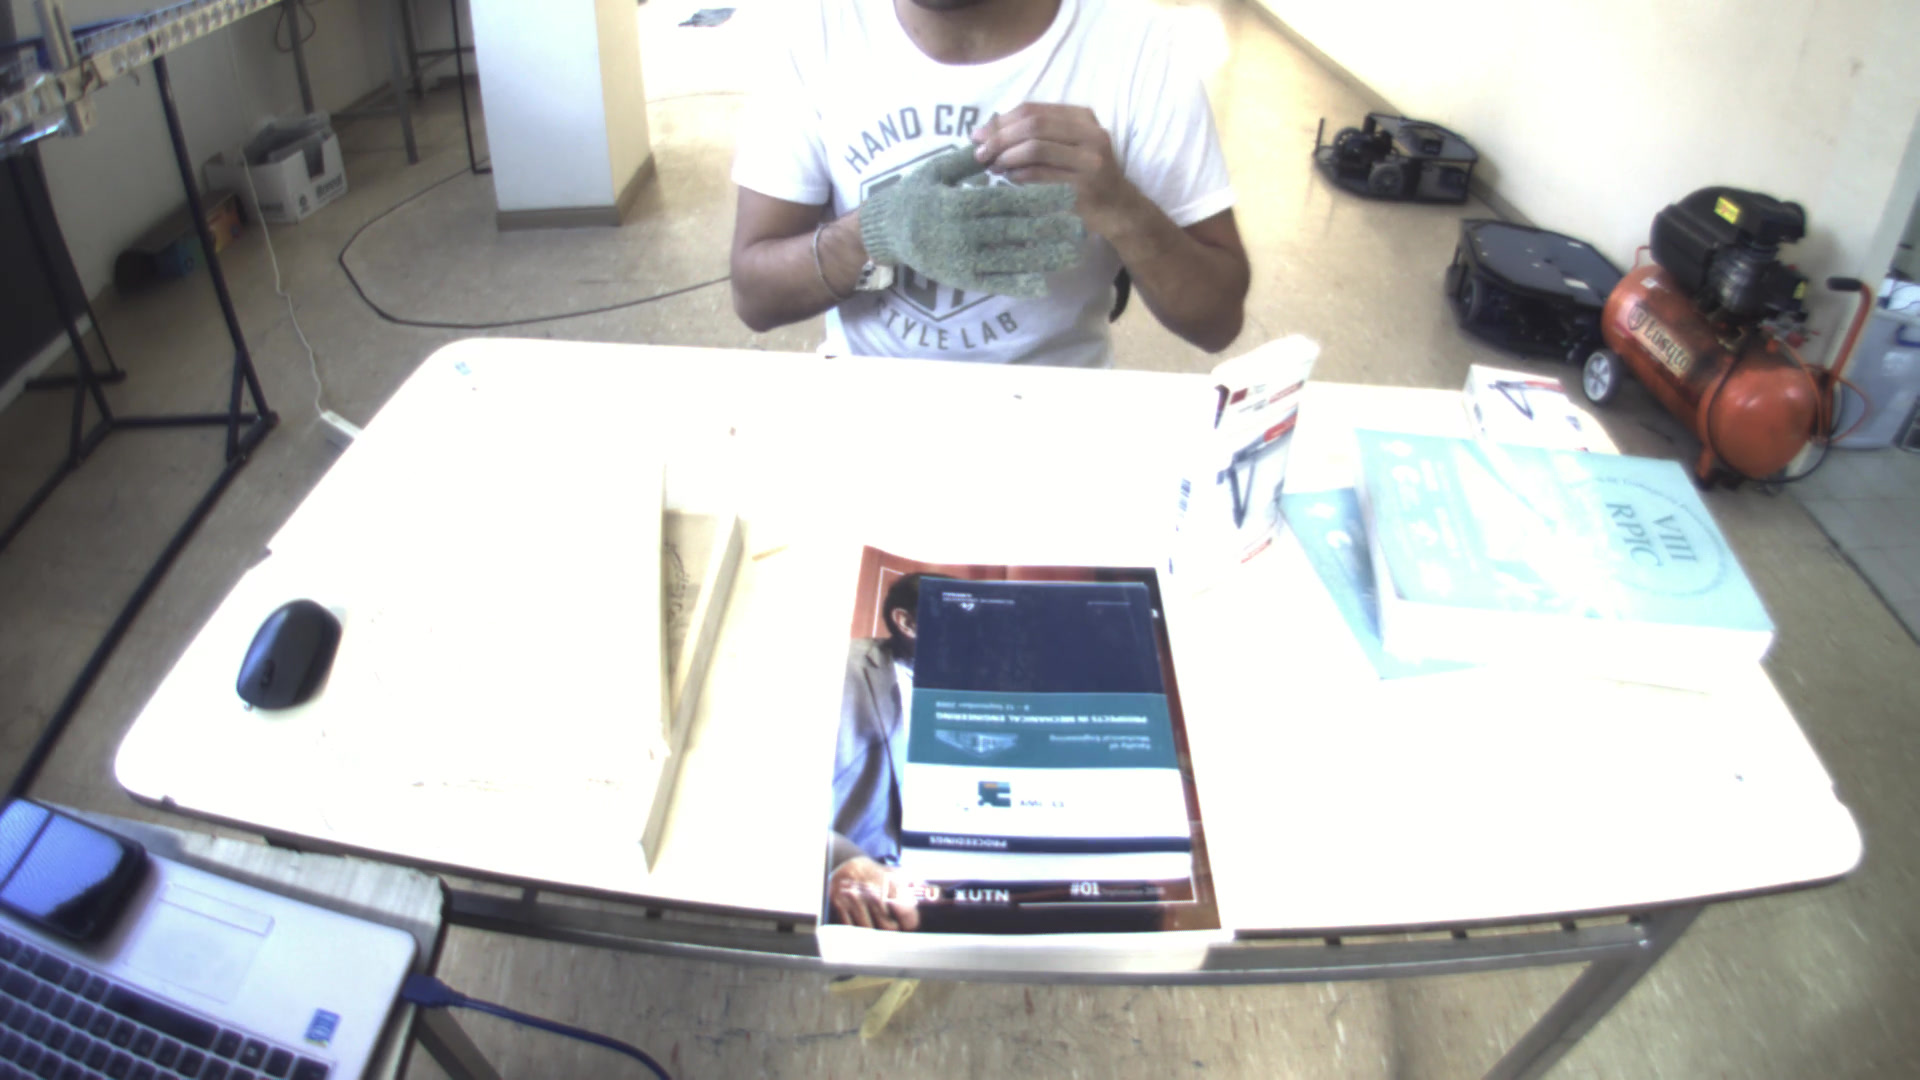hand: (843, 137, 1105, 286), (968, 88, 1133, 202)
